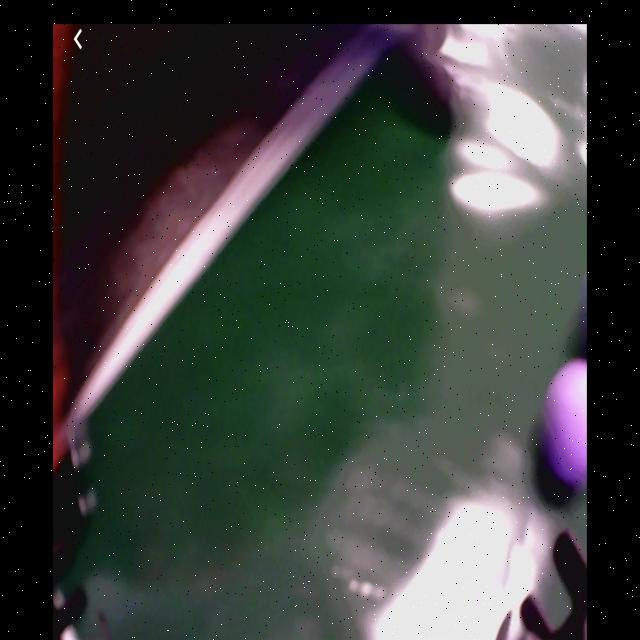ball: (544, 356, 588, 500)
